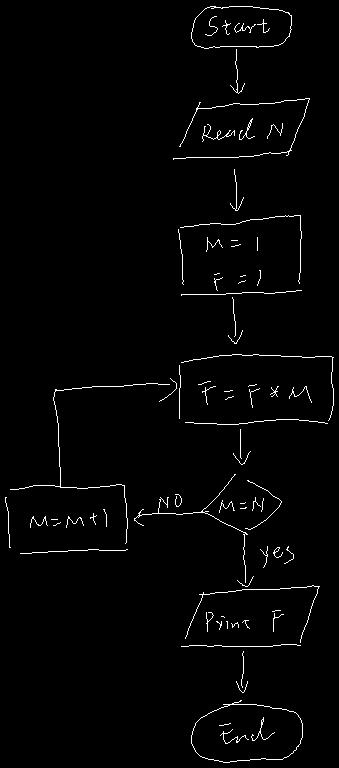arrow: (53, 378, 176, 487), (134, 509, 208, 525), (237, 534, 253, 586), (228, 297, 242, 343), (230, 49, 244, 93), (233, 429, 250, 464), (230, 169, 243, 210), (236, 651, 247, 692)
data: (181, 585, 319, 646), (173, 98, 309, 159)
decision: (201, 474, 281, 534)
process: (179, 354, 333, 424), (178, 215, 301, 295), (5, 484, 127, 553)
terminator: (191, 700, 302, 762), (191, 6, 291, 48)
text: (198, 381, 311, 407), (206, 237, 260, 290), (202, 118, 282, 141), (206, 610, 283, 631), (219, 717, 274, 743), (30, 509, 106, 527), (205, 16, 269, 35), (260, 546, 293, 567), (219, 497, 263, 512), (158, 494, 181, 512)
